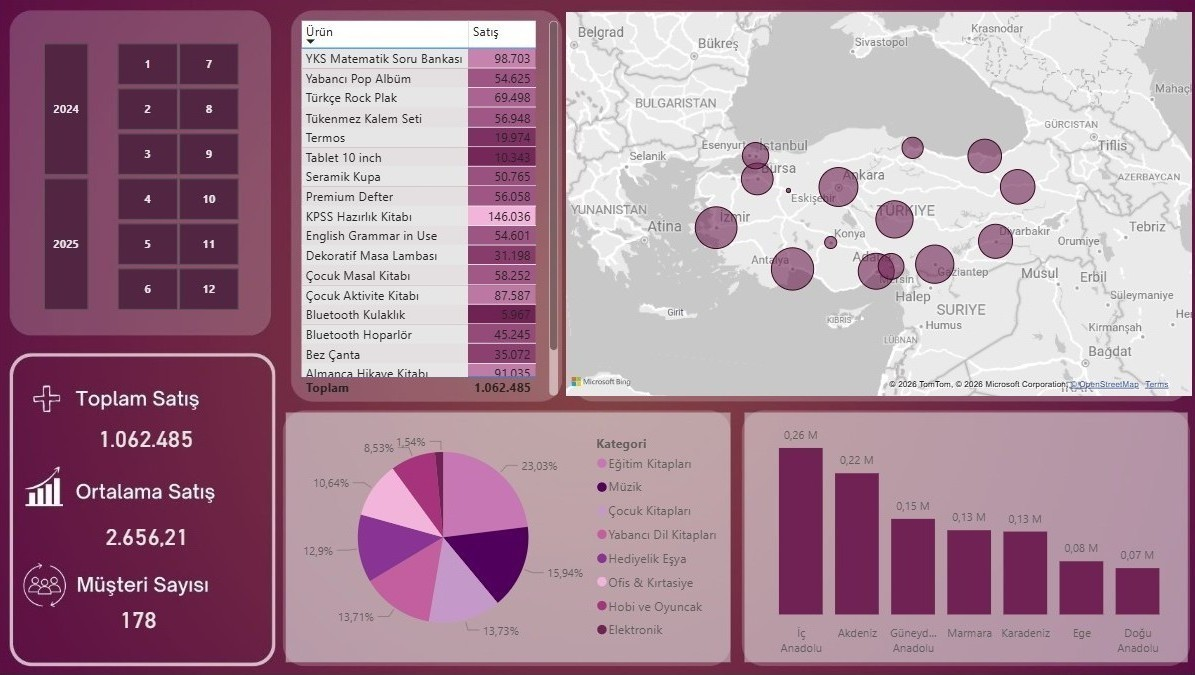

Layout of this report page (visuals, bound fields, positions):
{"tool":"powerbi","page":{"name":"1. sayfa","canvas":[1280,720],"ordinal":0},"visuals":[{"type":"slicer","fields":{"Values":["satis.Yıl"]},"box":[29,43.4,86.9,288.3],"z":0},{"type":"slicer","fields":{"Values":["satis.Ay"]},"box":[107.4,43.4,168.9,288.3],"z":1000},{"type":"card","fields":{"Values":["Sum(satis.SatisTutari)"]},"box":[52.6,446.2,214.1,42.3],"z":2000},{"type":"card","fields":{"Values":["Avg(satis.SatisTutari)"]},"box":[93.6,550,133.3,42.3],"z":3000},{"type":"card","fields":{"Values":["Count(satis.MusteriNo)"]},"box":[83.3,639.7,133.3,42.3],"z":4000},{"type":"pieChart","fields":{"Category":["kategoriler.Kategori"],"Y":["Sum(satis.SatisTutari)"]},"box":[307.6,440.4,474.1,266.6],"z":5000},{"type":"tableEx","fields":{"Values":["kategoriler.Urun","Sum(satis.SatisTutari)"]},"box":[318.5,16.9,284.7,410.2],"z":6000},{"type":"columnChart","fields":{"Category":["bolgeler.Bolge"],"Y":["Sum(satis.SatisTutari)"]},"box":[797.5,440.4,472.9,266.6],"z":7000},{"type":"map","fields":{"Category":["bolgeler.Il"],"Size":["Sum(satis.SatisTutari)"]},"box":[603.2,8.4,676.8,418.6],"z":8000}]}

Visuals, with their boxes in screenshot pixels (x1, y1, x2, y2), scaled from the page's 1280x720 canvas onto the 1195x675 screenshot:
slicer - satis.Yıl: detection(27, 41, 108, 311)
slicer - satis.Ay: detection(100, 41, 258, 311)
card - Sum(satis.SatisTutari): detection(49, 418, 249, 458)
card - Avg(satis.SatisTutari): detection(87, 516, 212, 555)
card - Count(satis.MusteriNo): detection(78, 600, 202, 639)
pieChart - kategoriler.Kategori x Sum(satis.SatisTutari): detection(287, 413, 730, 663)
tableEx - kategoriler.Urun x Sum(satis.SatisTutari): detection(297, 16, 563, 400)
columnChart - bolgeler.Bolge x Sum(satis.SatisTutari): detection(745, 413, 1186, 663)
map - bolgeler.Il x Sum(satis.SatisTutari): detection(563, 8, 1194, 400)
